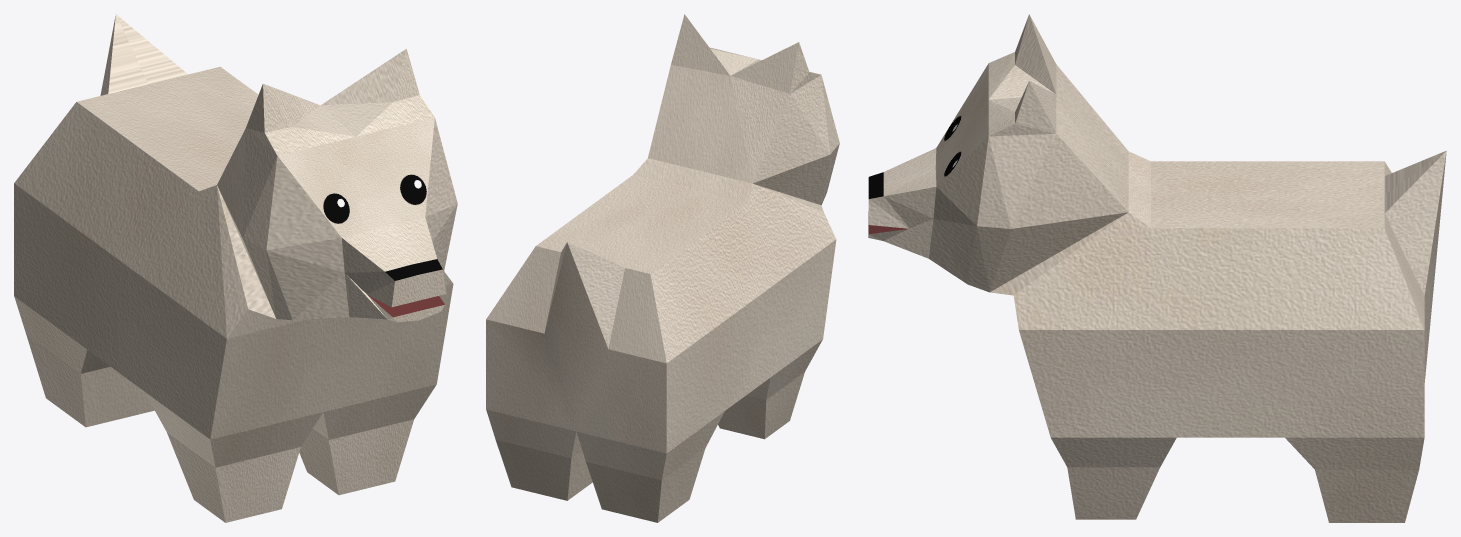
Rendered from UnriggedDog.FBX.
The picture shows the model from 3 angles, left to right: view 1: azimuth 30°, elevation 25°; view 2: azimuth 150°, elevation 25°; view 3: azimuth 270°, elevation 25°; orthographic projection. The views are drawn at different scales.
Visible parts, largest first — view 1: Box005; view 2: Box005; view 3: Box005.
Part boxes in pixels (x1=…): Box005: x1=14, y1=14, x2=457, y2=522; Box005: x1=486, y1=14, x2=839, y2=522; Box005: x1=868, y1=14, x2=1446, y2=522.
Bounding box in the file's own units: 6.92 × 13.26 × 16.05.
4 materials, 2 textured.
